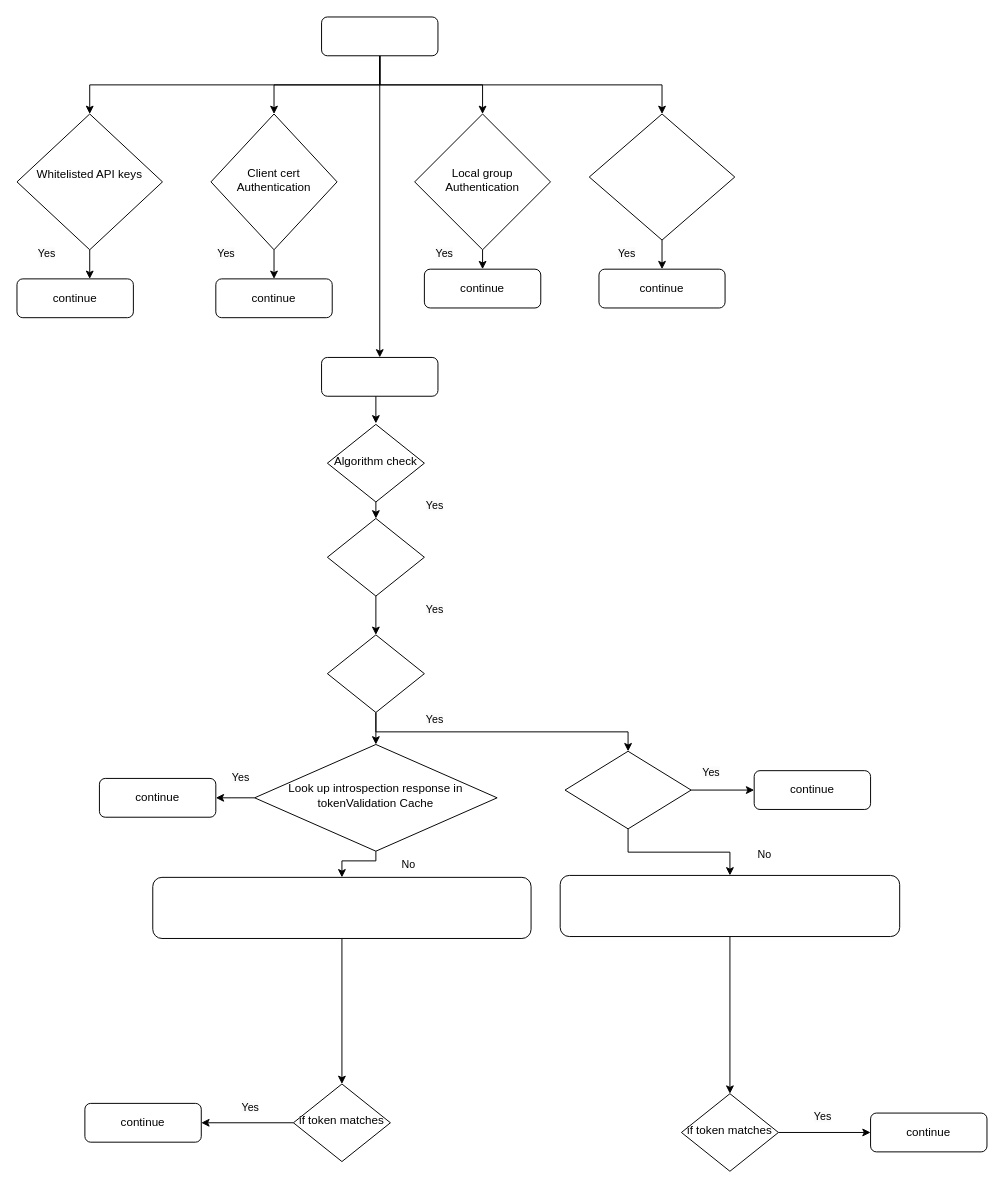
Some shapes in this 1004 by 1188 pixel diagram are drawn without their labels. Here are the shapes that lost their labels. From the top down, the centre of each, then its label:
point 379,36: Start/Request
point 661,176: SOAP WSSE Security header Authentication
point 379,376: Decode JWT token
point 375,556: Expiration check
point 375,673: Issuer check
point 627,789: Look up in jwks cache
point 341,907: Route via to http introspection end point and store it in cache
point 729,905: Route via to http jwks end point and store it in cache
